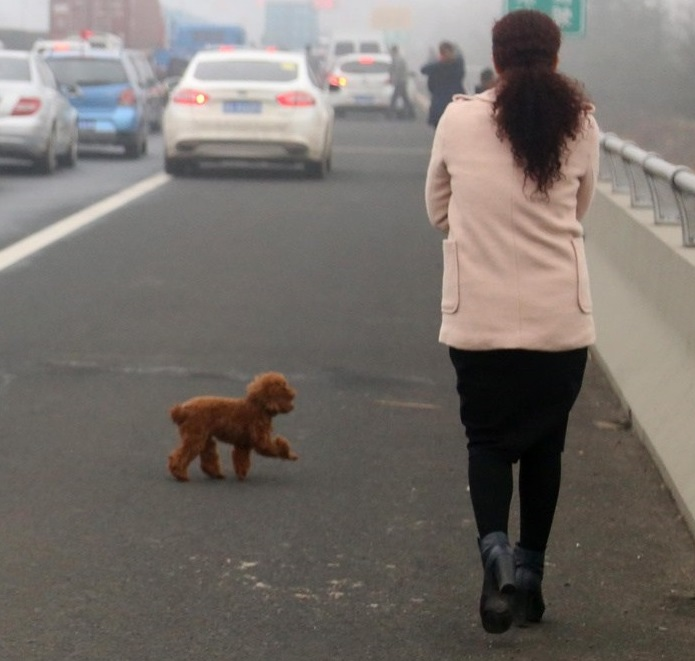person: (420, 9, 606, 635), (420, 40, 465, 126), (385, 45, 414, 118)
